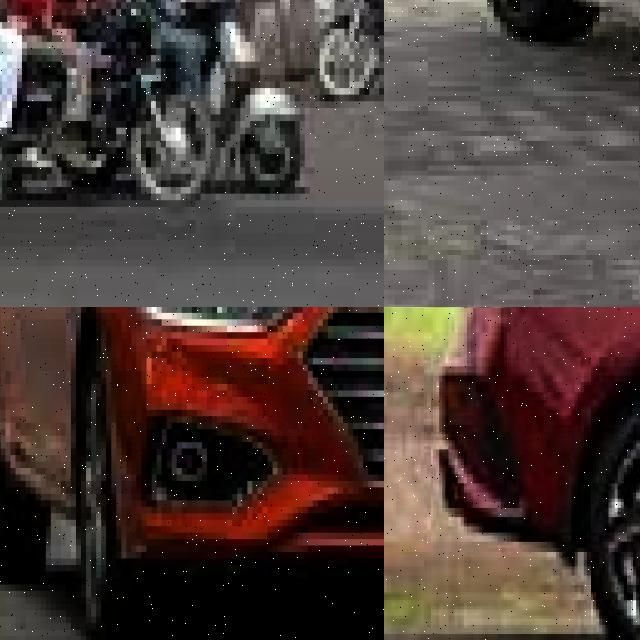bike: (0, 8, 220, 233), (324, 0, 384, 114)
car: (0, 307, 384, 640), (424, 307, 640, 640), (467, 0, 640, 240)
